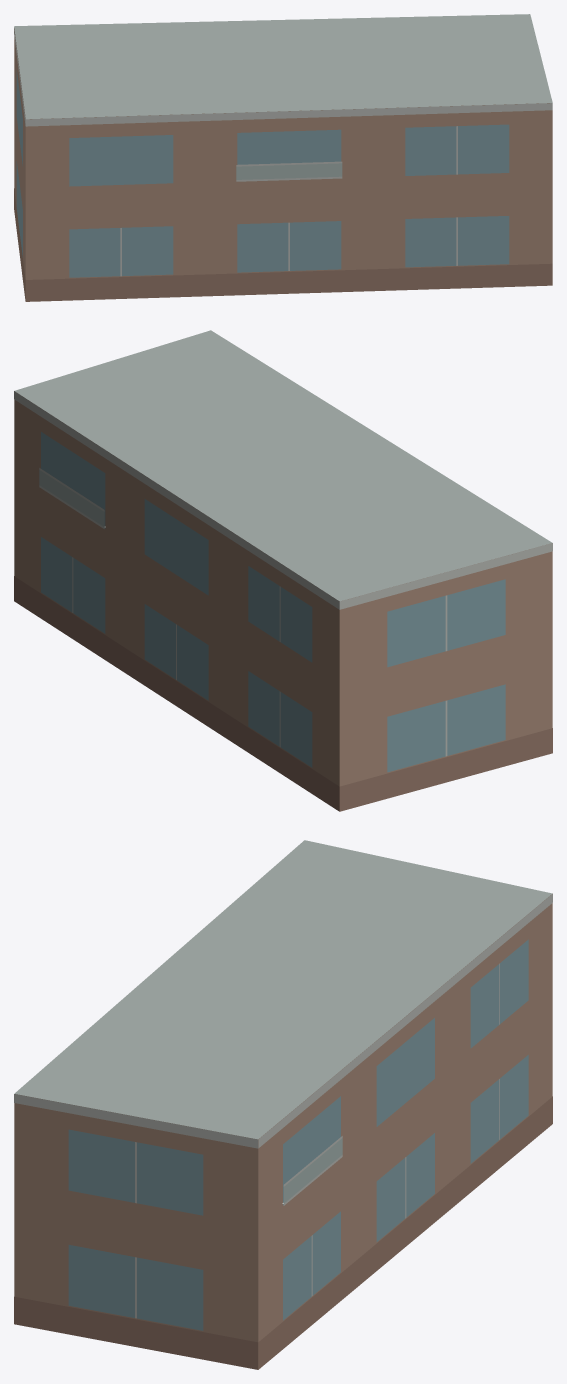
Rendered from survey-upis-32885201.glb.
3 views of the same model, one above another, from view 1: azimuth 30°, elevation 25°; view 2: azimuth 150°, elevation 25°; view 3: azimuth 270°, elevation 25° (orthographic). The views are drawn at different scales.
Parts seen in each view (by area): view 1: survey-upis-32885201.tmp; view 2: survey-upis-32885201.tmp; view 3: survey-upis-32885201.tmp.
Boxes of the visible parts, x1,y1,x2,y2 form: survey-upis-32885201.tmp: (14, 14, 552, 301); survey-upis-32885201.tmp: (14, 330, 552, 811); survey-upis-32885201.tmp: (14, 840, 552, 1369).
Bounding box in the file's own units: 17.01 × 6.1 × 12.93.
